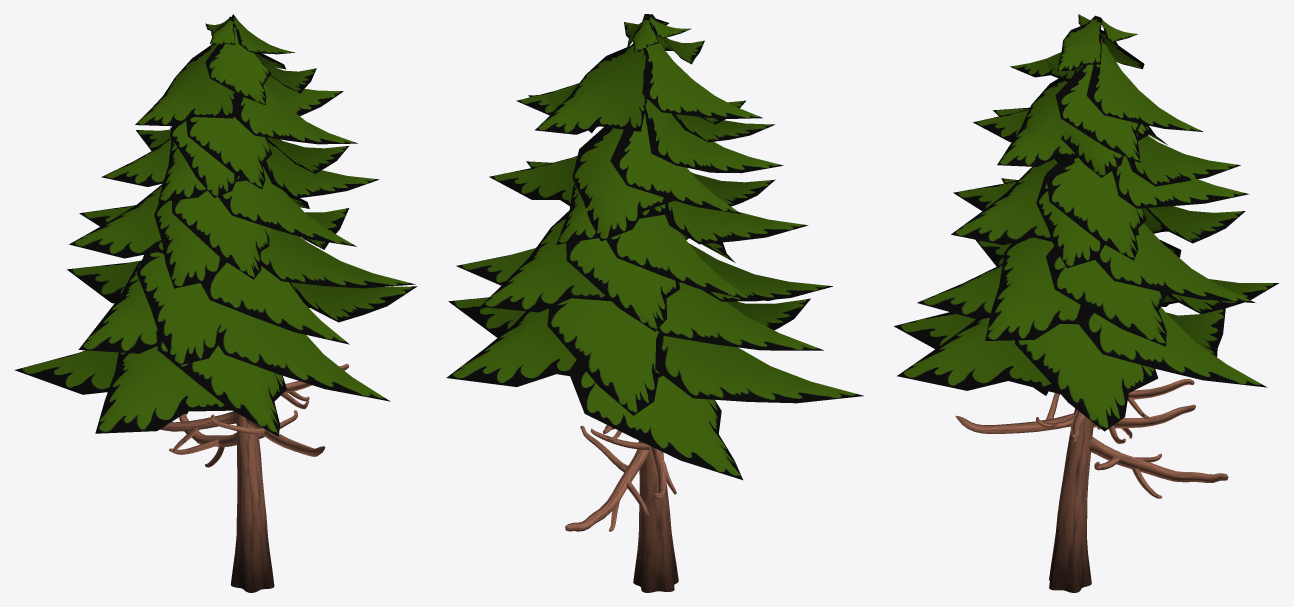
The model's file is pine_1.gltf.
3 views of the same model, side by side, from view 1: azimuth 30°, elevation 25°; view 2: azimuth 150°, elevation 25°; view 3: azimuth 270°, elevation 25° (orthographic). The views are drawn at different scales.
Visible parts, largest first — view 1: Pine_1; view 2: Pine_1; view 3: Pine_1.
Part boxes in pixels (bbox=[...]): Pine_1: bbox=[14, 14, 417, 592]; Pine_1: bbox=[446, 14, 863, 592]; Pine_1: bbox=[894, 14, 1278, 592].
Size of the model in its own units: 4.94 by 7.32 by 4.54.
Materials: 2 (2 with a texture image).
